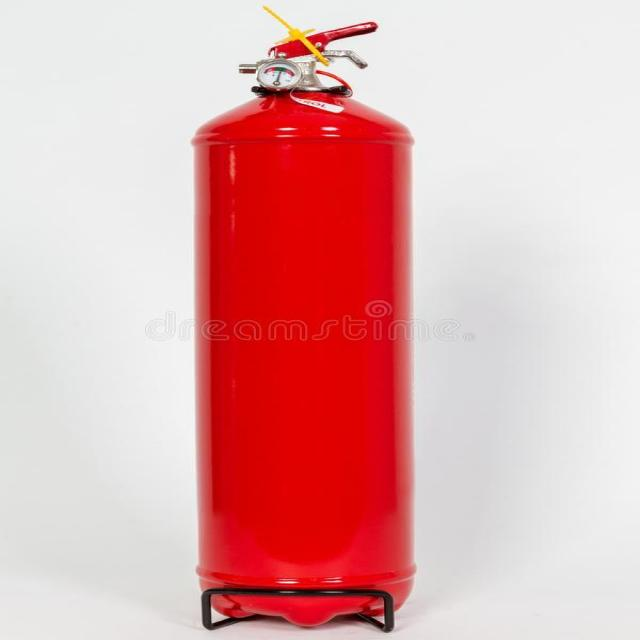fire_extinguisher: (185, 14, 426, 627)
